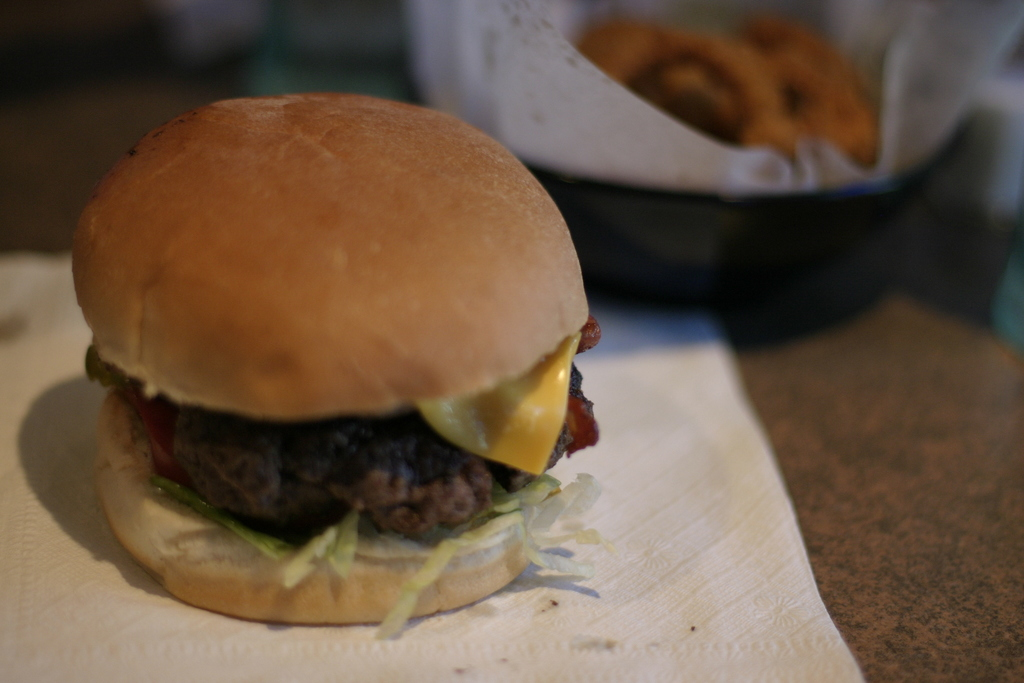Hamburger: (70, 90, 602, 634)
